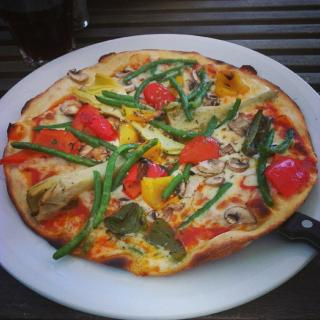tomato: (1, 129, 81, 163), (118, 157, 168, 198), (265, 156, 309, 199), (72, 105, 116, 137), (179, 133, 220, 166), (142, 84, 176, 112)
